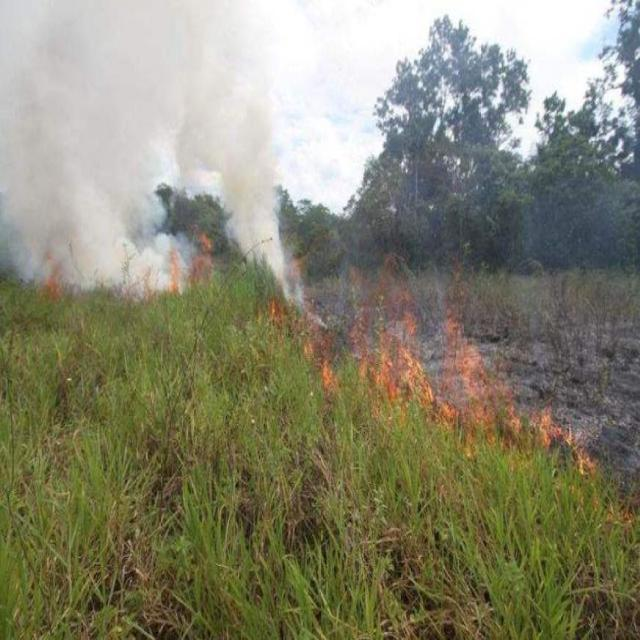Fire: (282, 267, 582, 443)
Smoke: (18, 40, 278, 262)
